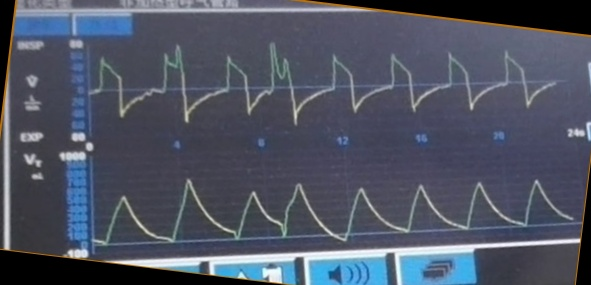Double_Triggering Flow: (99, 38, 530, 130)
Double_Triggering Volume: (93, 177, 535, 243)
